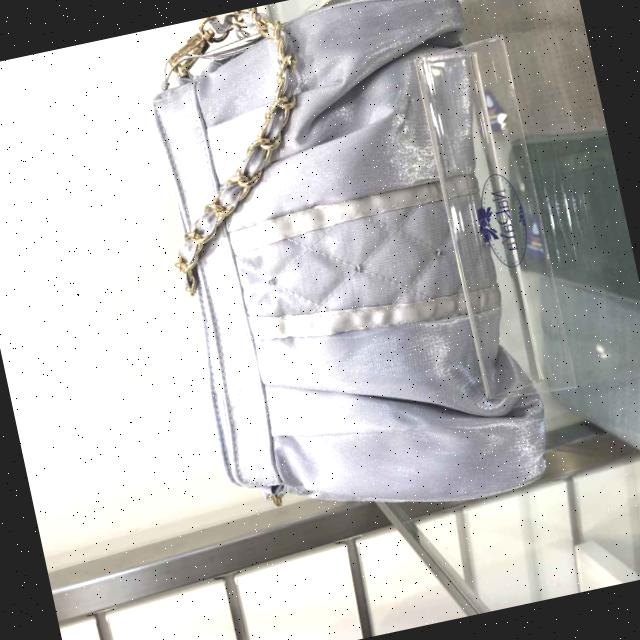Handbag: (107, 0, 569, 553)
